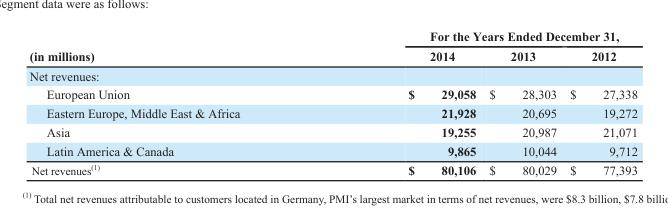table: (28, 28, 636, 176)
table column: (28, 28, 323, 176), (323, 28, 481, 176), (481, 28, 562, 176), (562, 28, 636, 176)
table column header: (28, 28, 636, 66)
table projected row header: (28, 66, 636, 84)
table row: (28, 45, 636, 66), (28, 84, 636, 103), (28, 103, 636, 122), (28, 122, 636, 141), (28, 66, 636, 84), (28, 141, 636, 159), (28, 28, 636, 45), (28, 159, 636, 176)
table spanning cell: (28, 28, 323, 66), (323, 28, 636, 45)
